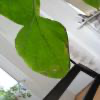Bell_pepper leaf spot: (14, 14, 72, 80)
